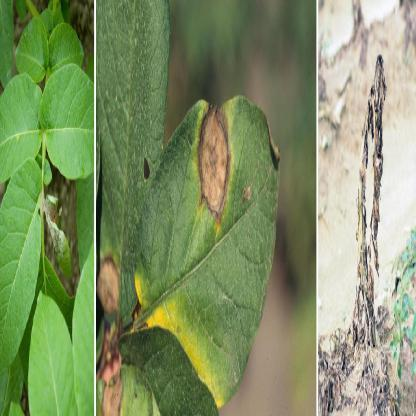potato leaf late blight: (121, 75, 284, 415)
